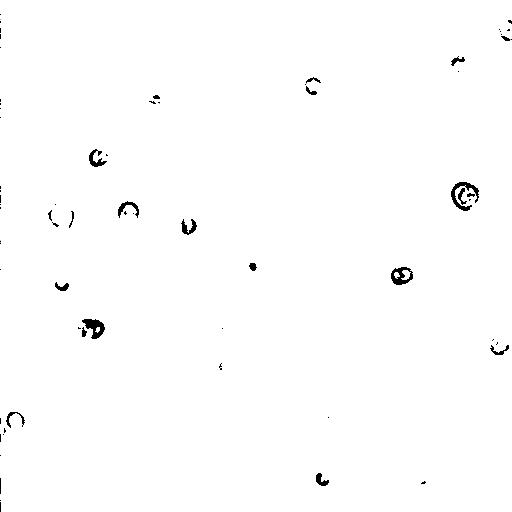micro-algae: (45, 202, 75, 232), (450, 181, 479, 211), (61, 320, 91, 346), (444, 51, 472, 77), (413, 471, 443, 495), (239, 251, 265, 277), (217, 353, 243, 377), (487, 333, 510, 357), (87, 147, 111, 169), (118, 200, 140, 224), (81, 317, 105, 339), (391, 265, 416, 286), (179, 213, 198, 237), (303, 75, 323, 95), (7, 410, 25, 431), (498, 17, 511, 42), (53, 277, 69, 293), (315, 471, 331, 487), (216, 0, 235, 4), (1, 419, 5, 437)
